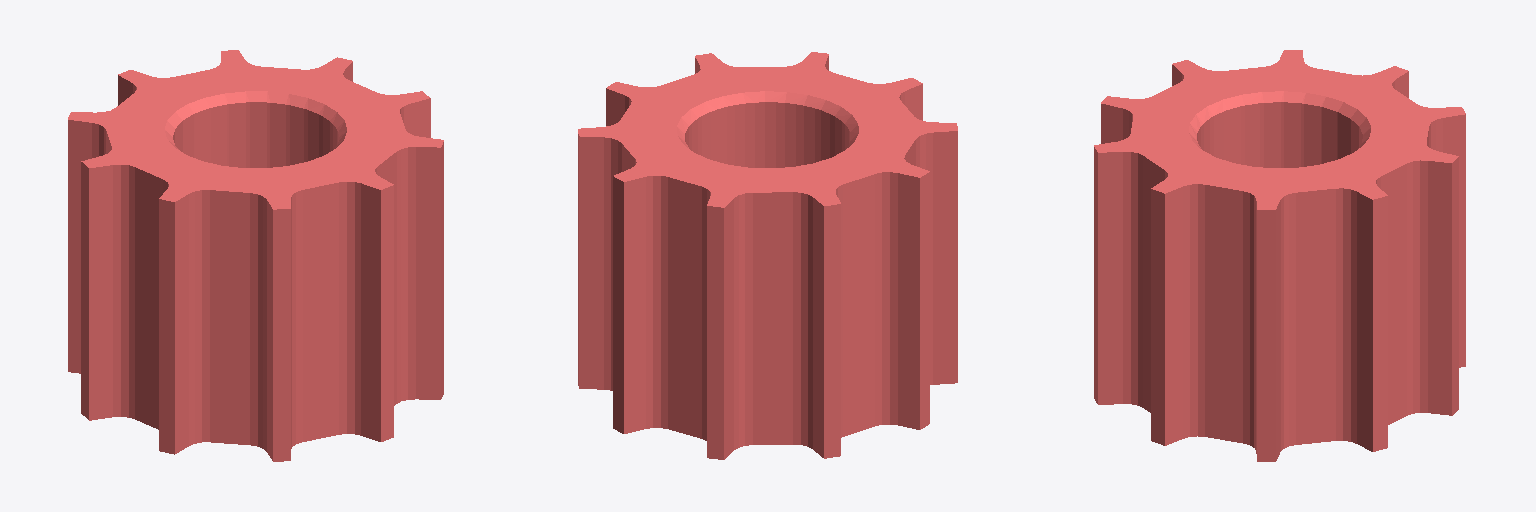
The model's file is solo12_hip_fe_5.obj.
3 views of the same model, side by side, from view 1: azimuth 30°, elevation 25°; view 2: azimuth 150°, elevation 25°; view 3: azimuth 270°, elevation 25° (orthographic).
Bounding box in the file's own units: 0.0091 × 0.0067 × 0.009.